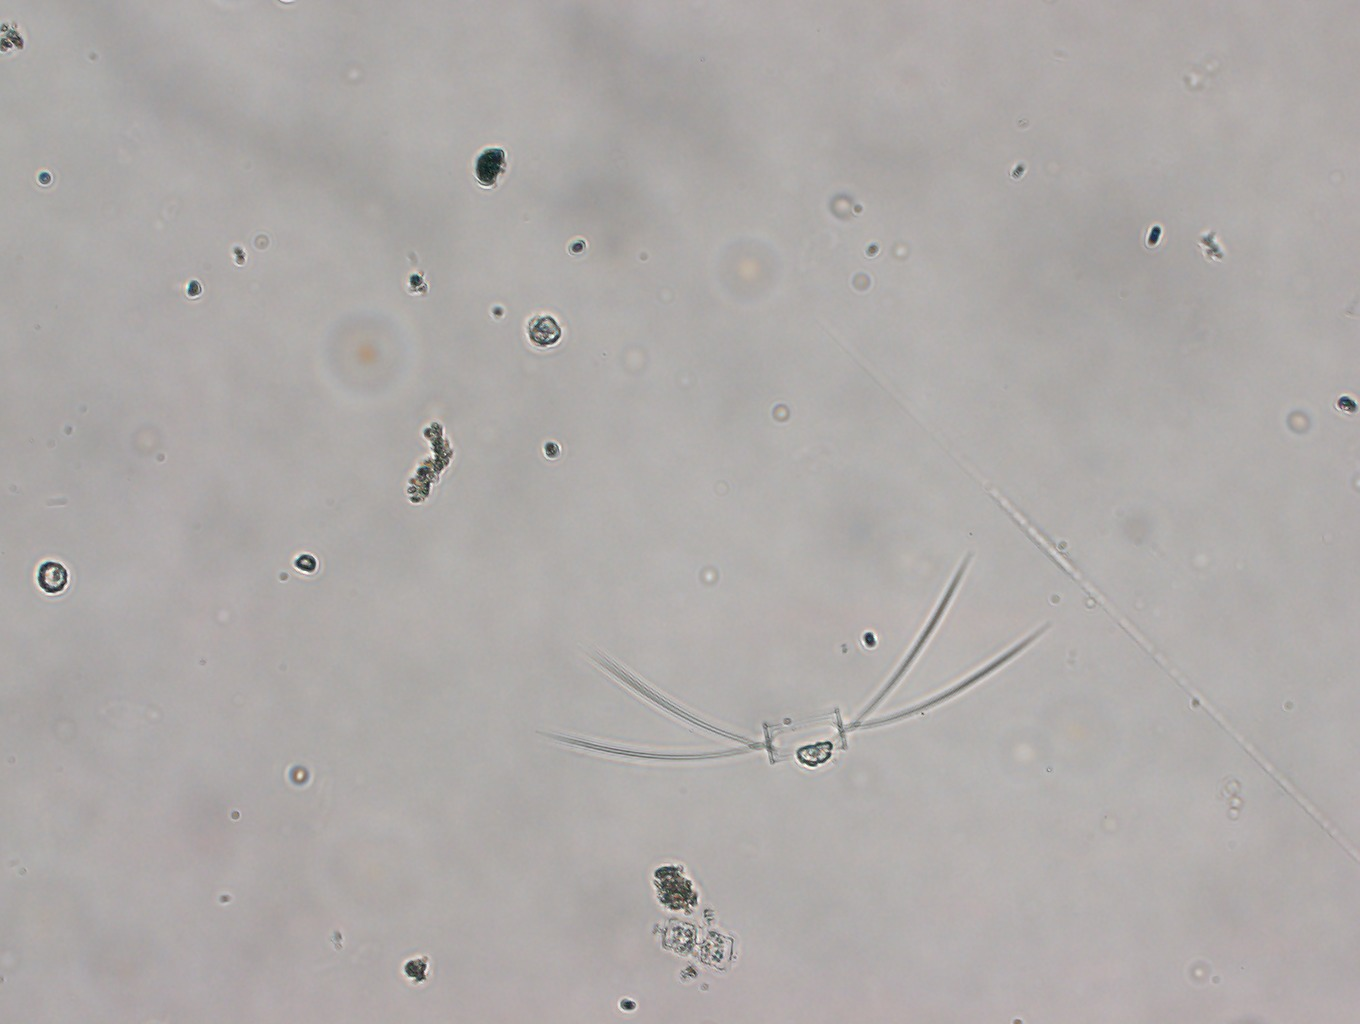chaetoceros: (540, 546, 1055, 778)
